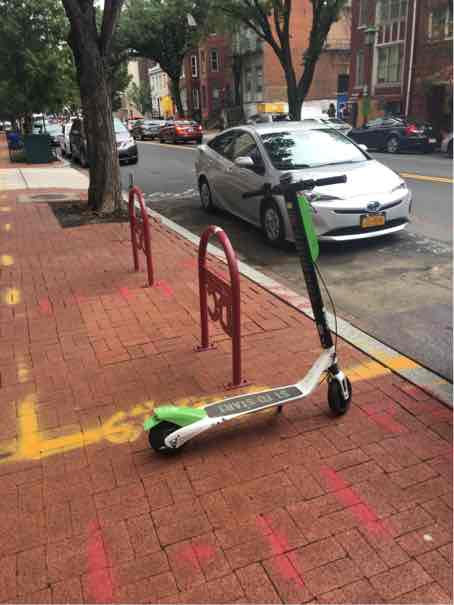scooter: (136, 157, 360, 461)
